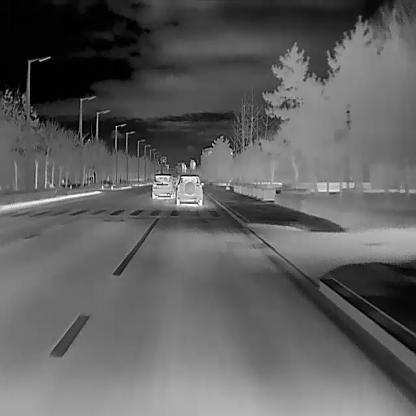car: (176, 173, 204, 206), (151, 172, 175, 198)
